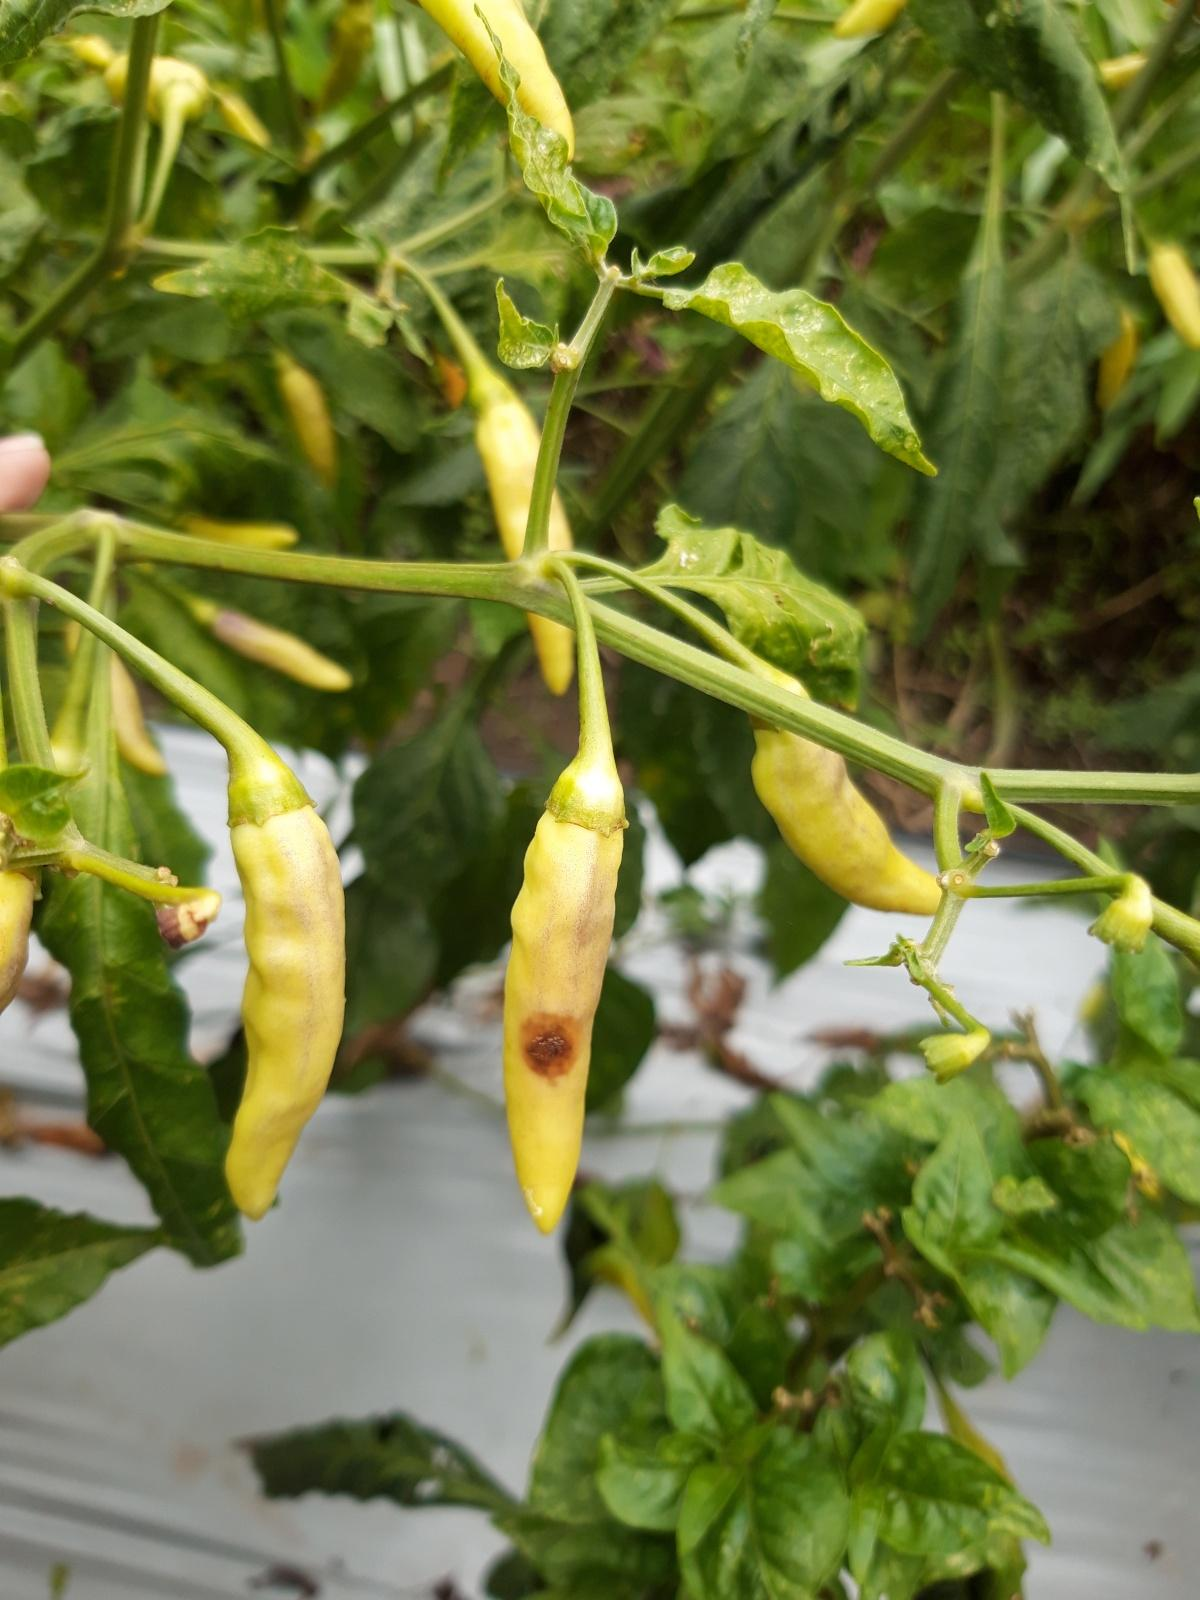cabai_normal: (226, 753, 350, 1214), (754, 671, 940, 914), (470, 374, 576, 696)
lalat_buah: (501, 770, 624, 1236)
